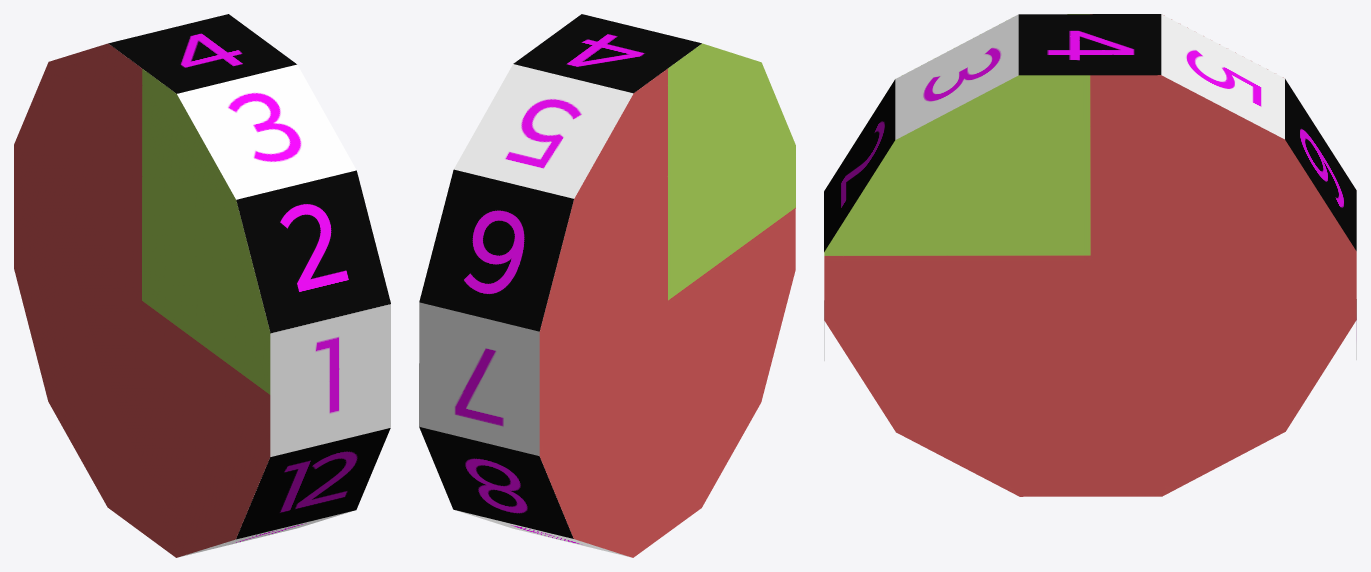
File: reel.glb
3 views of the same model, side by side, from view 1: azimuth 30°, elevation 25°; view 2: azimuth 150°, elevation 25°; view 3: azimuth 270°, elevation 25° (orthographic). The views are drawn at different scales.
Parts seen in each view (by area): view 1: Reel_side, Reel.002, Reel.001, Reel.003, Reel.012, Reel.004, Reel.011; view 2: Reel_side, Reel.006, Reel.007, Reel.005, Reel.008, Reel.004, Reel.009; view 3: Reel_side, Reel.004, Reel.005, Reel.003, Reel.002, Reel.006.
Boxes of the visible parts, x1,y1,x2,y2 form: Reel_side: [14, 43, 270, 557]; Reel.002: [236, 170, 390, 332]; Reel.001: [270, 303, 390, 456]; Reel.003: [177, 64, 356, 199]; Reel.012: [236, 428, 390, 539]; Reel.004: [108, 14, 296, 93]; Reel.011: [179, 511, 352, 557]; Reel_side: [539, 43, 795, 557]; Reel.006: [419, 169, 573, 331]; Reel.007: [419, 302, 539, 455]; Reel.005: [454, 64, 633, 198]; Reel.008: [419, 427, 573, 538]; Reel.004: [513, 14, 701, 93]; Reel.009: [456, 510, 630, 557]; Reel_side: [824, 14, 1356, 496]; Reel.004: [1018, 14, 1161, 75]; Reel.005: [1161, 14, 1284, 139]; Reel.003: [895, 14, 1018, 139]; Reel.002: [824, 79, 895, 251]; Reel.006: [1285, 79, 1356, 250].
Bounding box in the file's own units: 0.2716 × 1 × 1.
13 materials, 13 textured.
